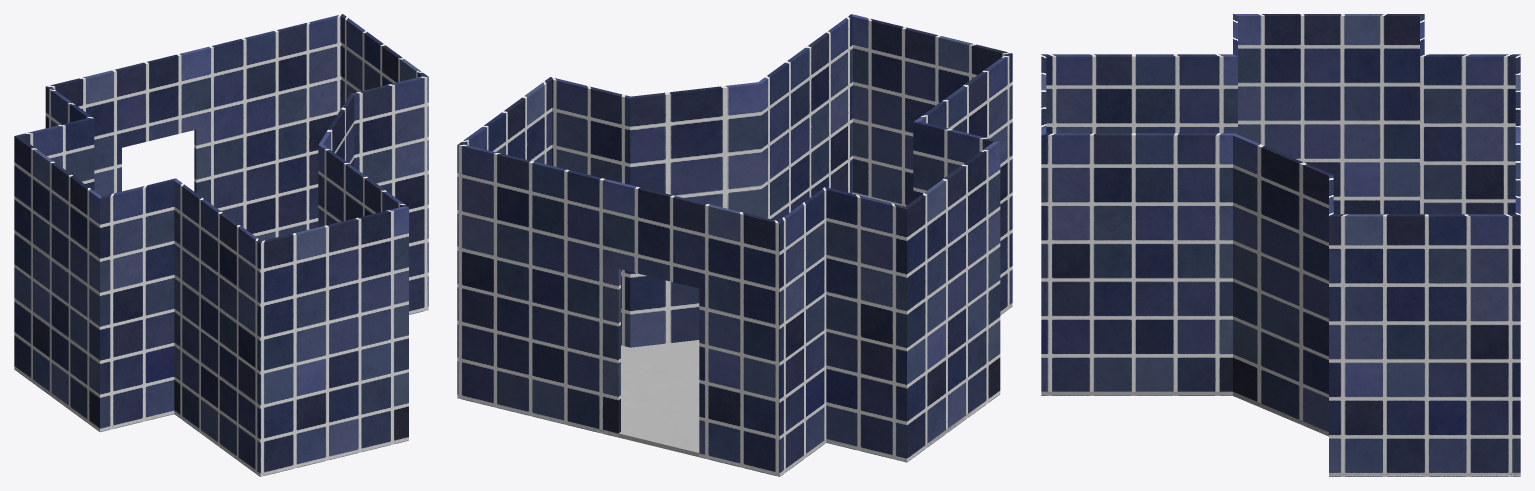
Rendered from bathroom.glb.
3 views of the same model, side by side, from view 1: azimuth 30°, elevation 25°; view 2: azimuth 150°, elevation 25°; view 3: azimuth 270°, elevation 25° (orthographic). The views are drawn at different scales.
Parts seen in each view (by area): view 1: Plane, Plane.001; view 2: Plane, Plane.001; view 3: Plane, Plane.001.
Part boxes in pixels (bbox=[...]): Plane: bbox=[14, 14, 428, 476]; Plane.001: bbox=[14, 307, 428, 476]; Plane: bbox=[457, 14, 1012, 476]; Plane.001: bbox=[474, 302, 1012, 476]; Plane: bbox=[1041, 14, 1520, 476]; Plane.001: bbox=[1041, 391, 1520, 476].
Bounding box in the file's own units: 5 × 3 × 5.
2 materials, 2 textured.
